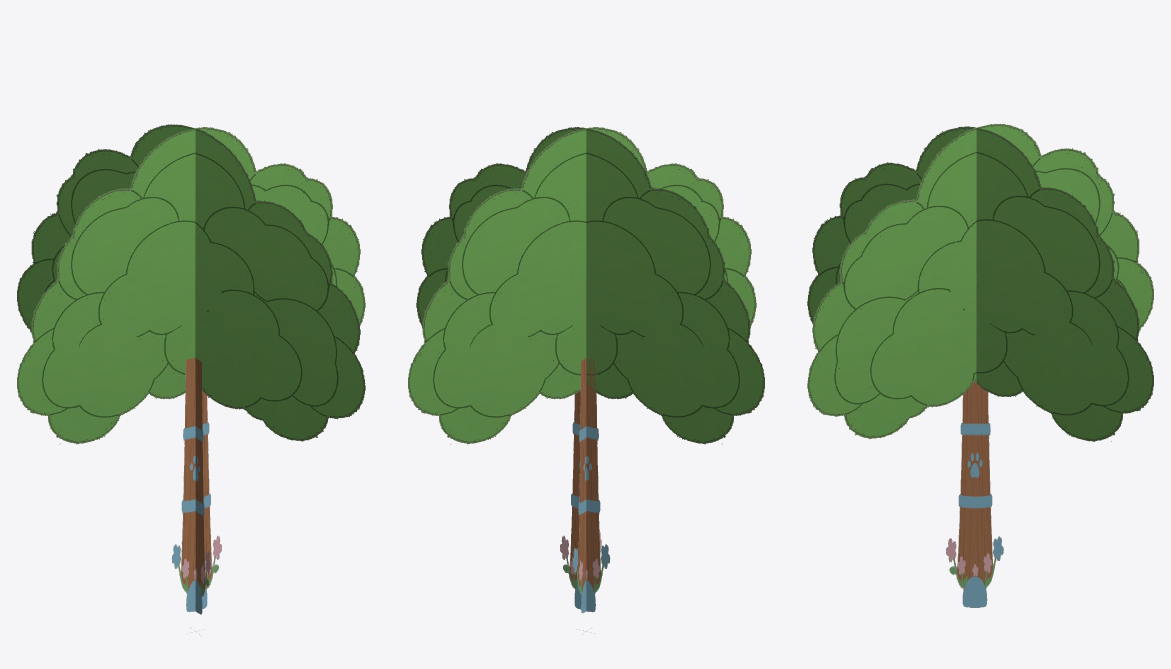
The model's file is nyanisyarud-tree-green.glb.
The picture shows the model from 3 angles, left to right: view 1: azimuth 30°, elevation 25°; view 2: azimuth 150°, elevation 25°; view 3: azimuth 270°, elevation 25°; orthographic projection.
Size of the model in its own units: 1.8 by 2.51 by 1.56.
Materials: 2 (2 with a texture image).
